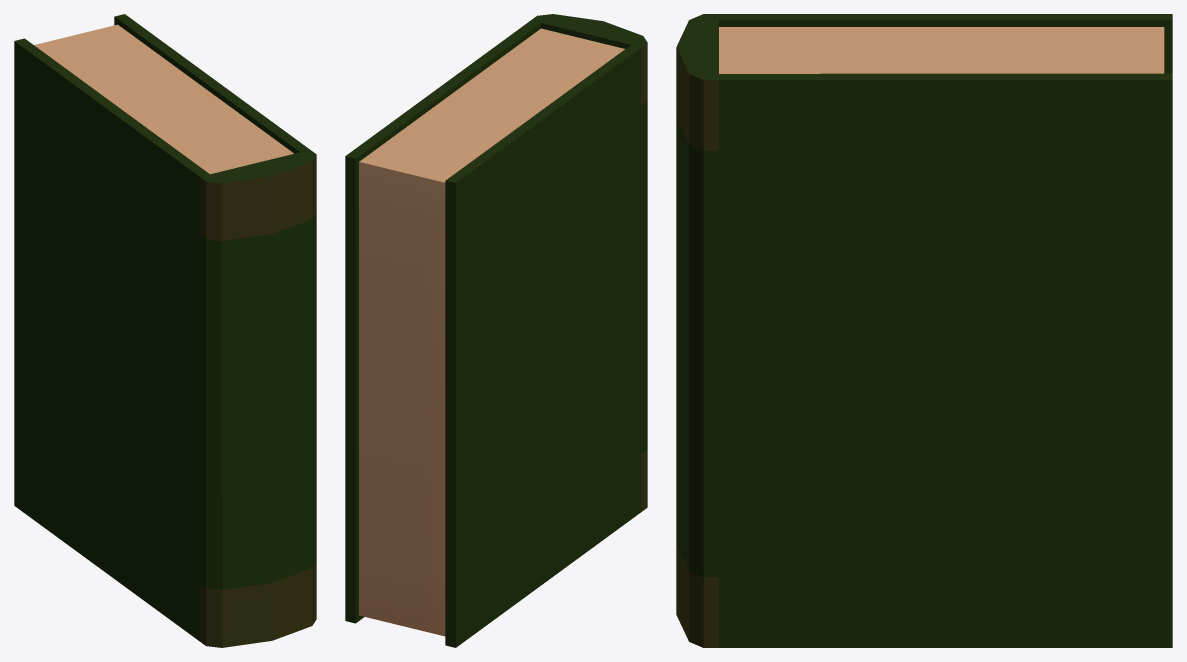
The model's file is Book_green_C.fbx.
3 views of the same model, side by side, from view 1: azimuth 30°, elevation 25°; view 2: azimuth 150°, elevation 25°; view 3: azimuth 270°, elevation 25° (orthographic). The views are drawn at different scales.
Visible parts, largest first — view 1: Book_green_C; view 2: Book_green_C; view 3: Book_green_C.
Part boxes in pixels (box(x1,y1,x2,y2)): Book_green_C: box(14, 14, 316, 647); Book_green_C: box(345, 14, 647, 647); Book_green_C: box(676, 14, 1172, 647).
Bounding box in the file's own units: 6.32 × 25.38 × 20.08.
